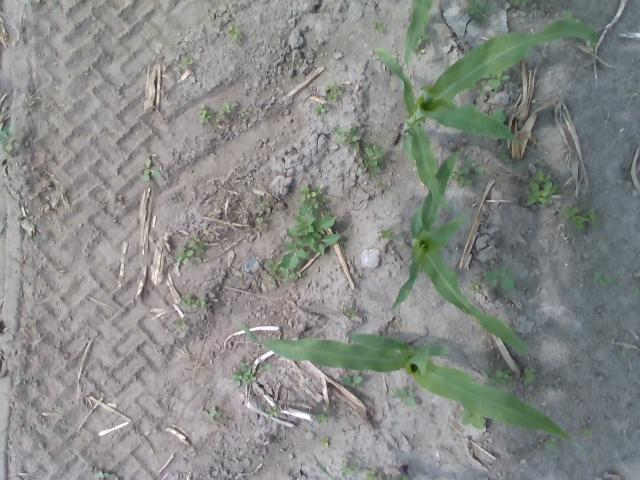Maize: (230, 315, 600, 472), (376, 17, 600, 215), (390, 146, 528, 356), (403, 0, 433, 73)
Weeds: (268, 184, 342, 284), (524, 169, 564, 206), (352, 138, 386, 178), (449, 157, 485, 189), (560, 204, 600, 232), (175, 236, 208, 264), (477, 69, 510, 94), (484, 265, 514, 291), (0, 118, 21, 154), (462, 0, 493, 24), (484, 364, 514, 388), (231, 361, 258, 387), (460, 410, 487, 429), (392, 386, 416, 407), (333, 125, 359, 144), (340, 454, 360, 476), (323, 80, 343, 102), (592, 270, 616, 288), (141, 160, 161, 180), (540, 434, 558, 454), (412, 33, 428, 55), (340, 374, 362, 390), (198, 103, 215, 123), (488, 107, 508, 124), (201, 406, 222, 421), (561, 9, 580, 23), (314, 411, 328, 428), (228, 22, 242, 39), (218, 101, 232, 118), (524, 366, 536, 385), (379, 226, 395, 240), (579, 425, 594, 439), (265, 404, 278, 420), (180, 294, 194, 308), (498, 148, 512, 162), (343, 306, 357, 320), (194, 296, 207, 310), (468, 278, 481, 292), (363, 467, 376, 480), (507, 0, 530, 7), (182, 57, 194, 69), (312, 104, 326, 114), (172, 317, 185, 326), (320, 437, 330, 448), (373, 20, 383, 30), (618, 346, 628, 356), (524, 392, 534, 402), (259, 361, 270, 370), (631, 287, 640, 296), (626, 92, 638, 98), (377, 181, 385, 189), (238, 108, 246, 116), (255, 217, 264, 224)
